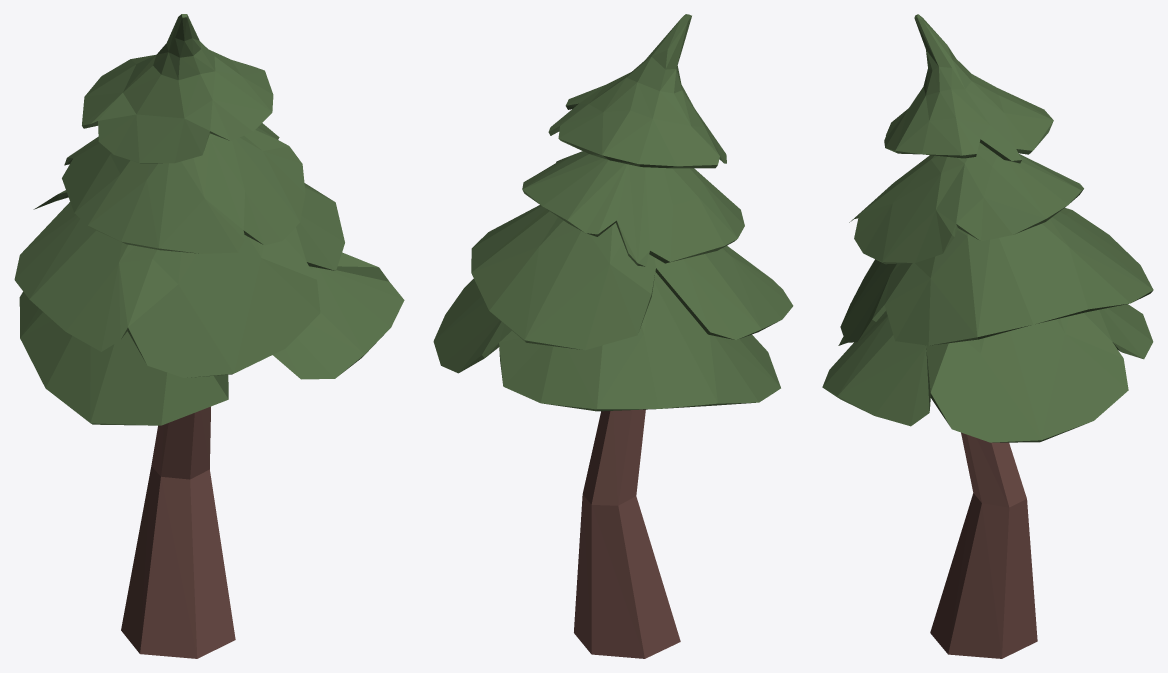
Rendered from PineTree_5.lod1.glb.
3 renders of one model, left to right at view 1: azimuth 30°, elevation 25°; view 2: azimuth 150°, elevation 25°; view 3: azimuth 270°, elevation 25°, orthographic. The views are drawn at different scales.
Visible parts, largest first — view 1: PineTree_5; view 2: PineTree_5; view 3: PineTree_5.
Part boxes in pixels (x1=…): PineTree_5: x1=14, y1=14, x2=404, y2=658; PineTree_5: x1=433, y1=14, x2=793, y2=658; PineTree_5: x1=822, y1=14, x2=1153, y2=658.
Size of the model in its own units: 1.47 by 2.7 by 1.33.
